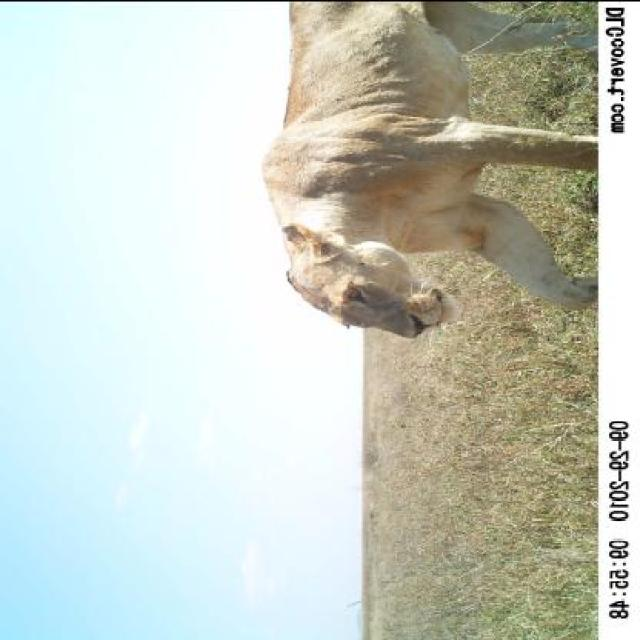Lion: (216, 3, 602, 348)
